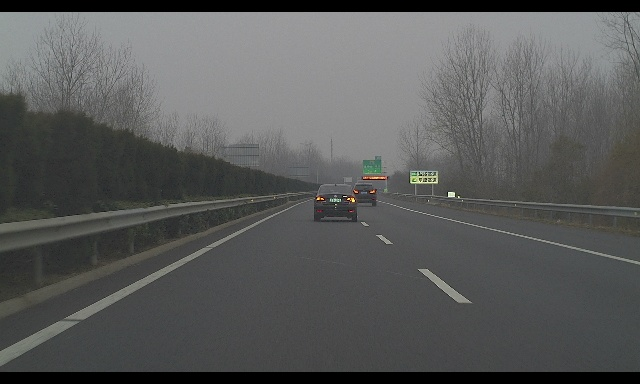car: (312, 184, 358, 222), (351, 182, 377, 206)
